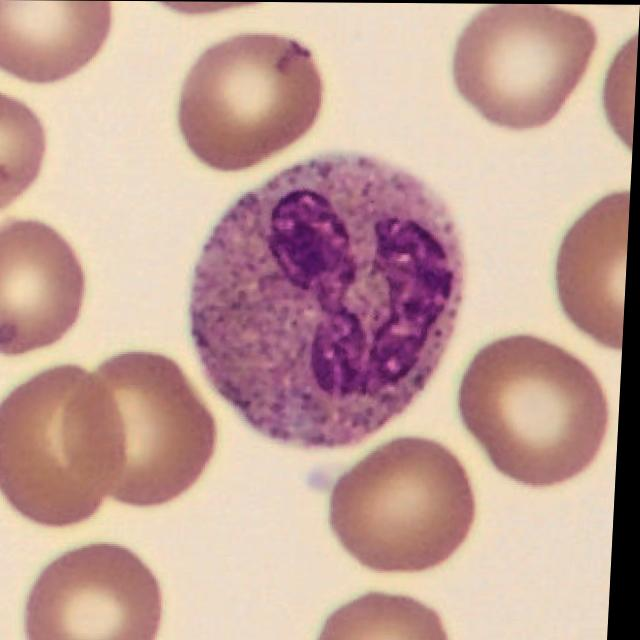Neutrofilo segmentado: (192, 153, 465, 450)
